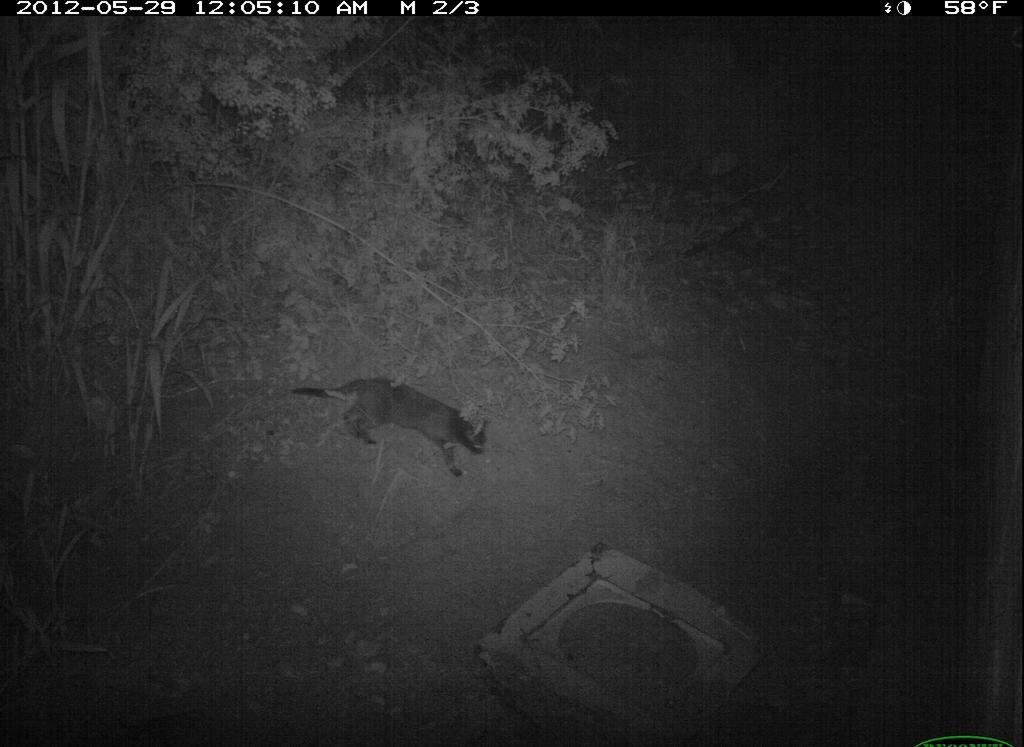cat: (273, 372, 501, 487)
